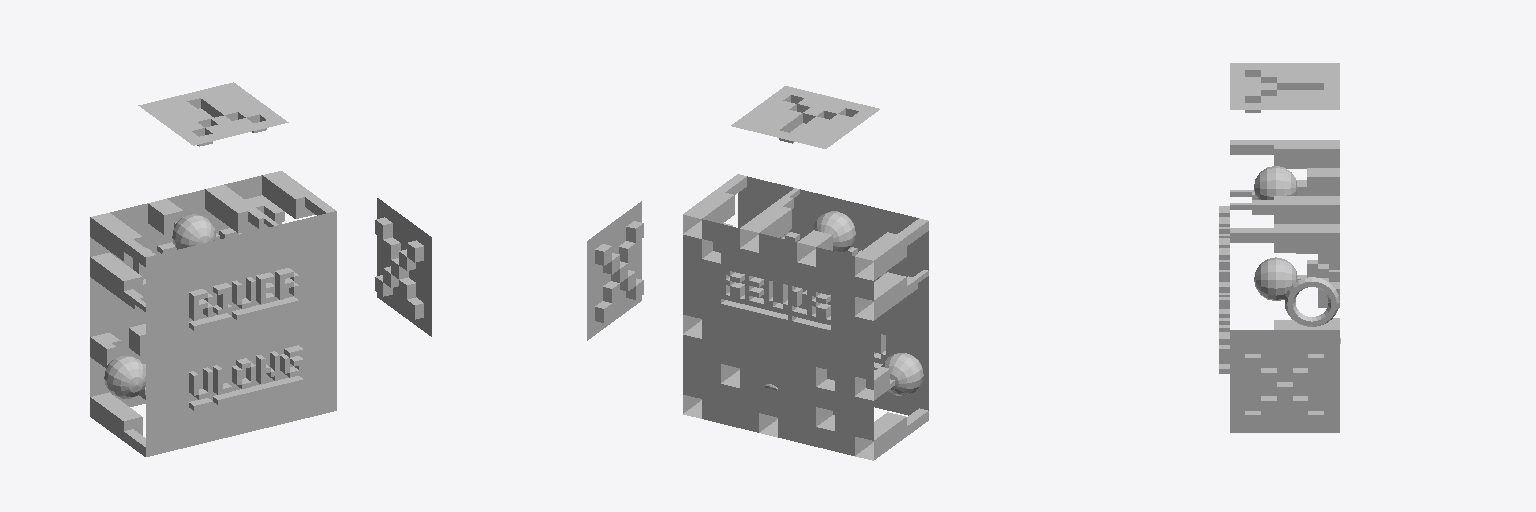
File: river.obj
3 views of the same model, side by side, from view 1: azimuth 30°, elevation 25°; view 2: azimuth 150°, elevation 25°; view 3: azimuth 270°, elevation 25° (orthographic).
Parts seen in each view (by area): view 1: 平面.001, 平面, 平面.002, 平面.003, 球体, 球体.001; view 2: 平面, 平面.001, 平面.002, 平面.003, 球体, 球体.001; view 3: 平面.002, 平面, 平面.003, 平面.001, 球体, 环体.003, 球体.001.
Boxes of the visible parts, x1=… form: 平面.001: x1=146, y1=211, x2=336, y2=454; 平面: x1=90, y1=171, x2=336, y2=456; 平面.002: x1=375, y1=198, x2=431, y2=336; 平面.003: x1=138, y1=82, x2=288, y2=146; 球体: x1=104, y1=356, x2=145, y2=398; 球体.001: x1=172, y1=214, x2=215, y2=249; 平面: x1=683, y1=174, x2=928, y2=460; 平面.001: x1=738, y1=176, x2=928, y2=415; 平面.002: x1=587, y1=201, x2=643, y2=340; 平面.003: x1=731, y1=86, x2=879, y2=148; 球体: x1=881, y1=353, x2=923, y2=395; 球体.001: x1=812, y1=211, x2=855, y2=252; 平面.002: x1=1230, y1=330, x2=1339, y2=429; 平面: x1=1230, y1=140, x2=1339, y2=432; 平面.003: x1=1230, y1=63, x2=1339, y2=112; 平面.001: x1=1219, y1=206, x2=1229, y2=373; 球体: x1=1254, y1=257, x2=1297, y2=300; 环体.003: x1=1285, y1=277, x2=1339, y2=326; 球体.001: x1=1254, y1=166, x2=1296, y2=199.
Size of the model in its own units: 15.81 by 15 by 5.57.